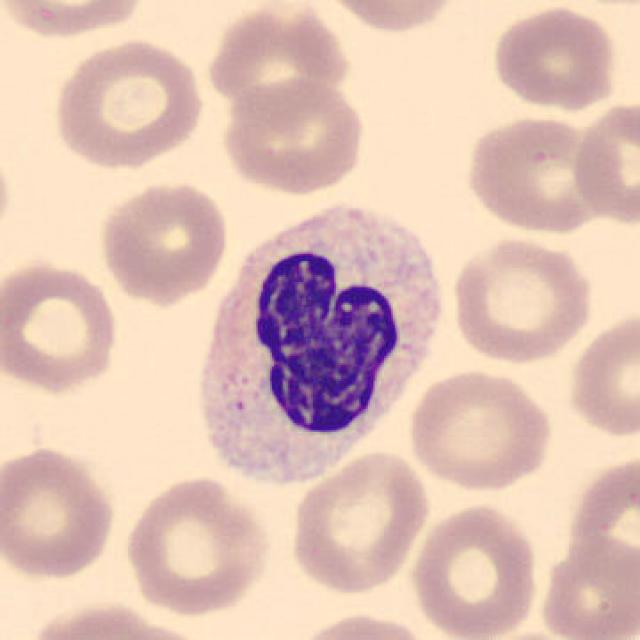Neutrophil: (188, 192, 452, 496)
RBC: (121, 471, 275, 619), (284, 446, 432, 596), (50, 35, 208, 171), (447, 232, 598, 366), (406, 366, 556, 494), (407, 499, 542, 640), (217, 74, 370, 198), (94, 176, 233, 307), (460, 113, 608, 236), (201, 0, 352, 118), (0, 254, 123, 397), (0, 442, 121, 582), (487, 2, 622, 113), (535, 532, 640, 640), (562, 455, 640, 599), (564, 306, 638, 442), (569, 97, 638, 227), (24, 597, 213, 640), (0, 0, 151, 42), (311, 0, 464, 37), (288, 608, 436, 640), (0, 137, 14, 261)
